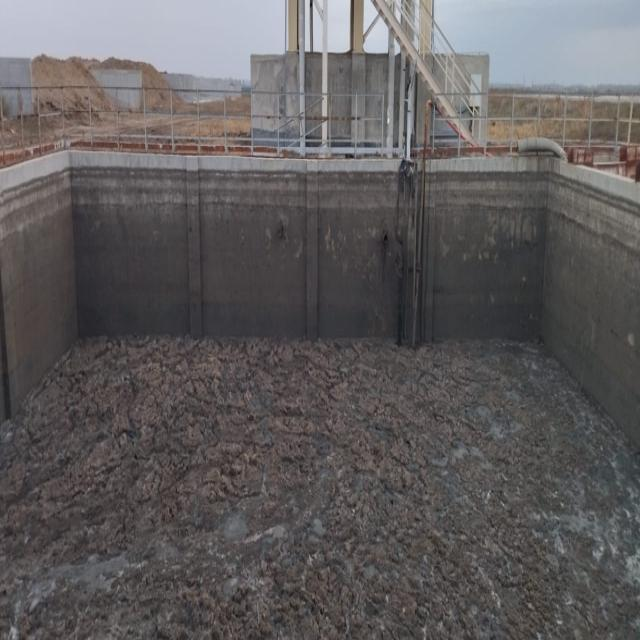fence: (0, 86, 384, 168), (432, 92, 640, 163)
liquid: (0, 338, 640, 640)
